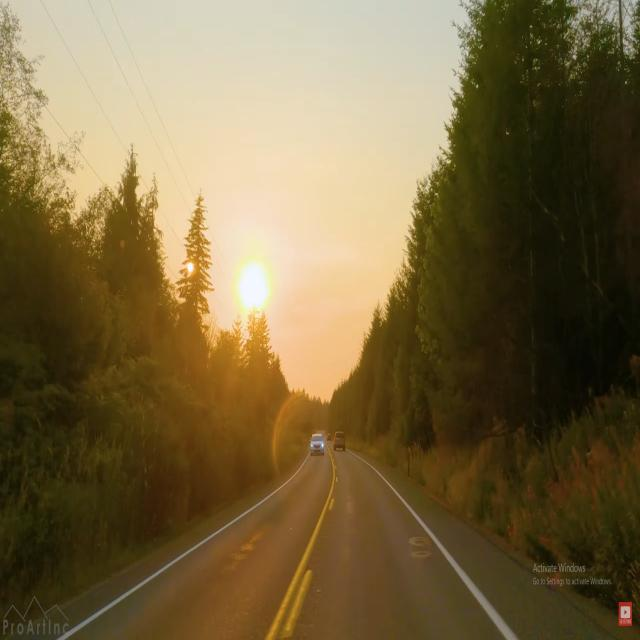sun: (234, 247, 274, 315)
